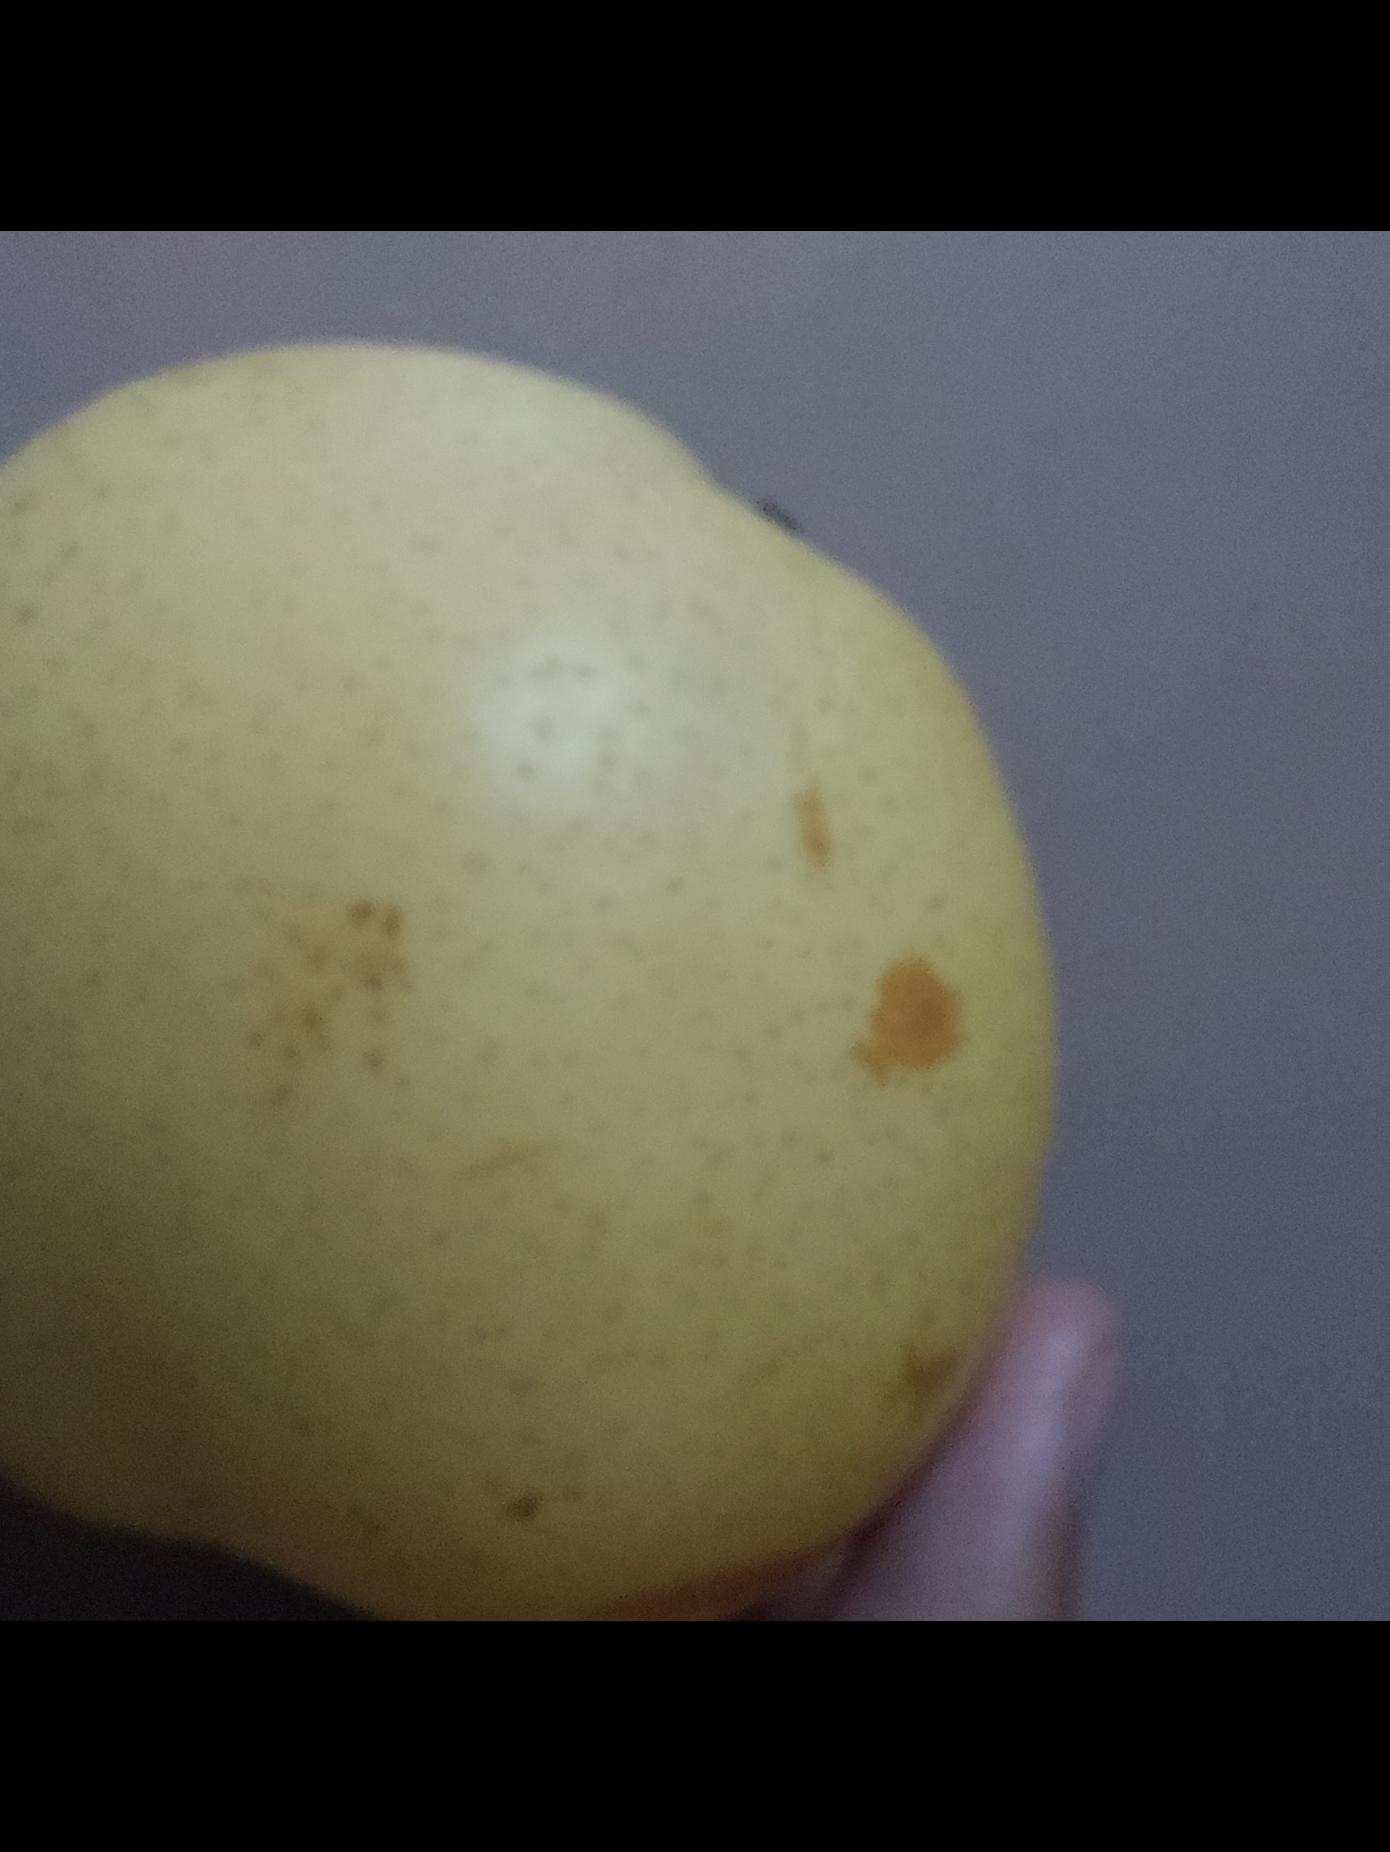Good Pear: (0, 333, 1064, 1621)
